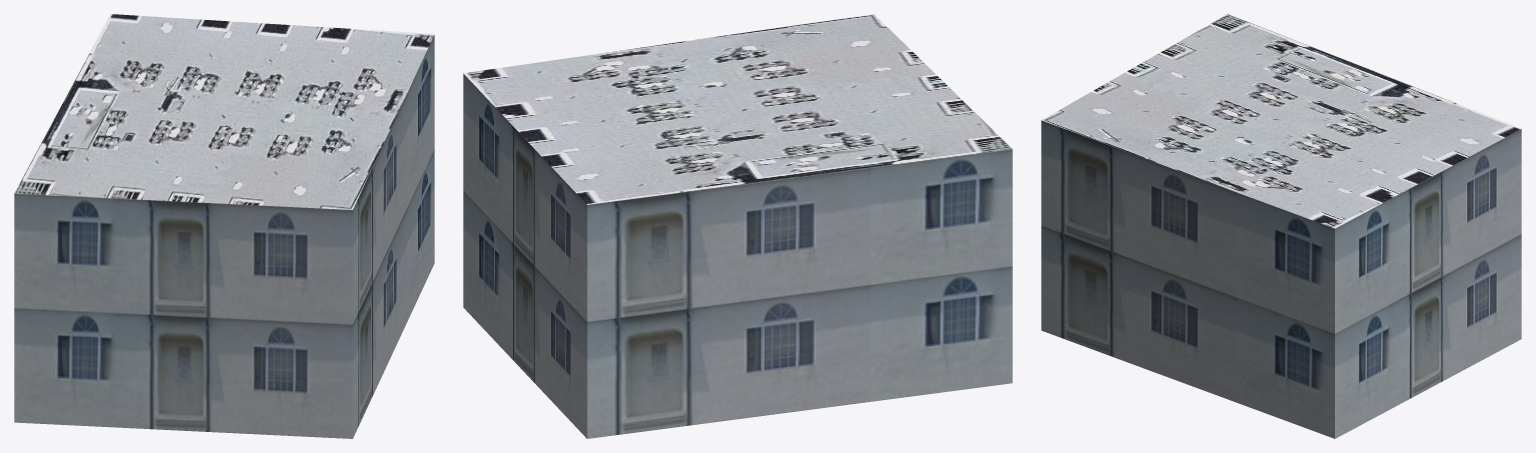
File: ResTex__1432.fbx
The picture shows the model from 3 angles, left to right: view 1: azimuth 30°, elevation 25°; view 2: azimuth 150°, elevation 25°; view 3: azimuth 270°, elevation 25°; orthographic projection. The views are drawn at different scales.
Visible parts, largest first — view 1: CityEngineMaterial_17_m, CityEngineMaterial_m; view 2: CityEngineMaterial_17_m, CityEngineMaterial_m; view 3: CityEngineMaterial_17_m, CityEngineMaterial_m.
Boxes of the visible parts, x1,y1,x2,y2 form: CityEngineMaterial_17_m: (14,35,434,438); CityEngineMaterial_m: (14,14,434,209); CityEngineMaterial_17_m: (463,74,1012,438); CityEngineMaterial_m: (463,14,1011,204); CityEngineMaterial_17_m: (1041,120,1521,438); CityEngineMaterial_m: (1042,14,1521,228).
Bounding box in the file's own units: 13.13 × 6 × 12.42.
2 materials, 2 textured.
